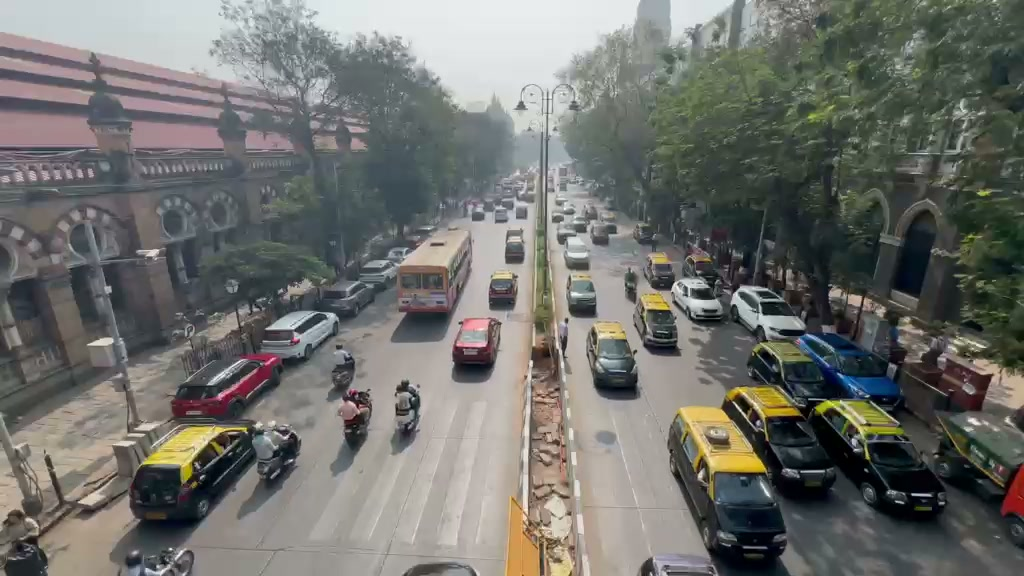bus: (395, 225, 473, 314)
car: (665, 405, 789, 565), (128, 420, 262, 522), (721, 384, 837, 495), (798, 331, 905, 412), (933, 409, 1024, 499), (745, 337, 848, 412), (169, 353, 282, 420), (731, 284, 807, 339), (259, 309, 339, 361), (586, 321, 639, 391), (251, 422, 301, 483), (634, 290, 680, 353), (314, 276, 376, 319), (451, 316, 501, 368), (671, 277, 726, 323), (999, 462, 1024, 549), (639, 553, 720, 576), (357, 258, 398, 291), (566, 276, 598, 316), (488, 268, 518, 310), (562, 236, 591, 269)
truck: (666, 405, 789, 564), (809, 396, 949, 519)
